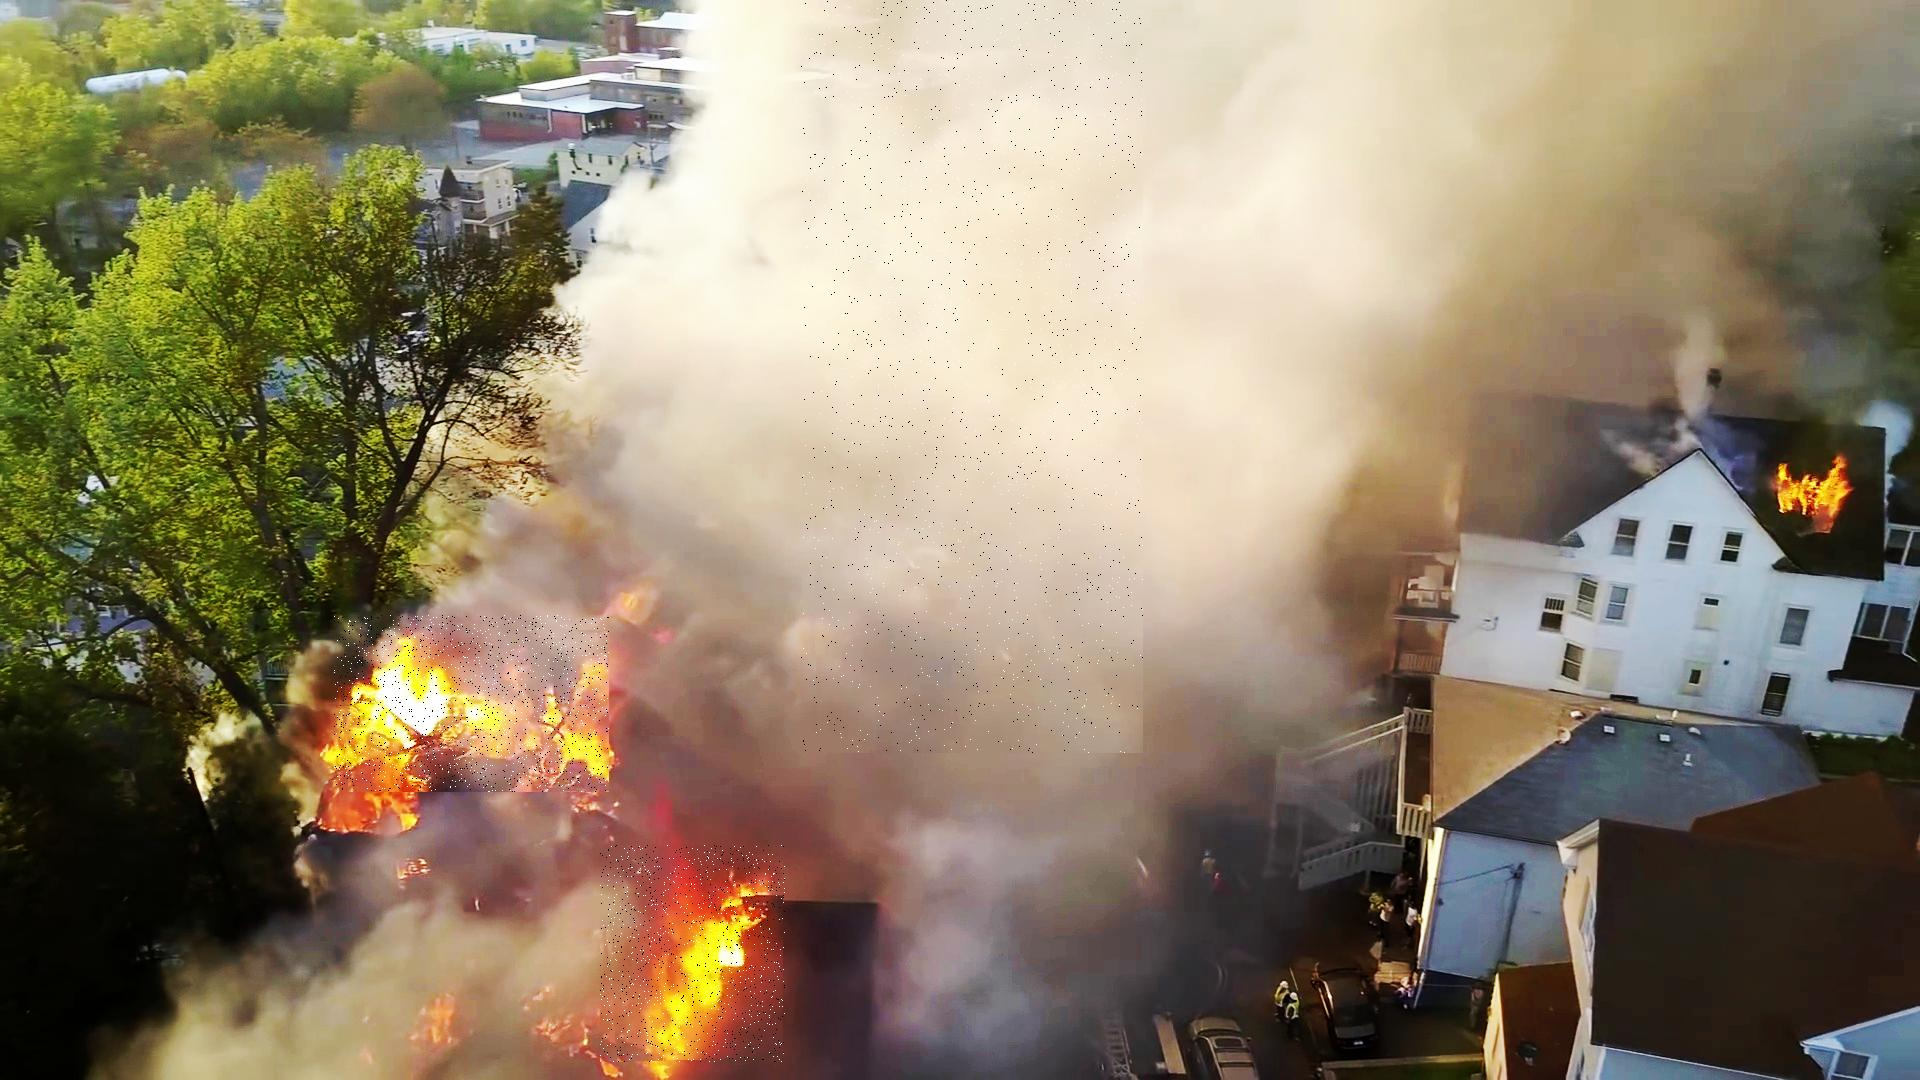fire: (335, 616, 609, 793), (601, 845, 786, 1063)
smoke: (800, 0, 1143, 753)
